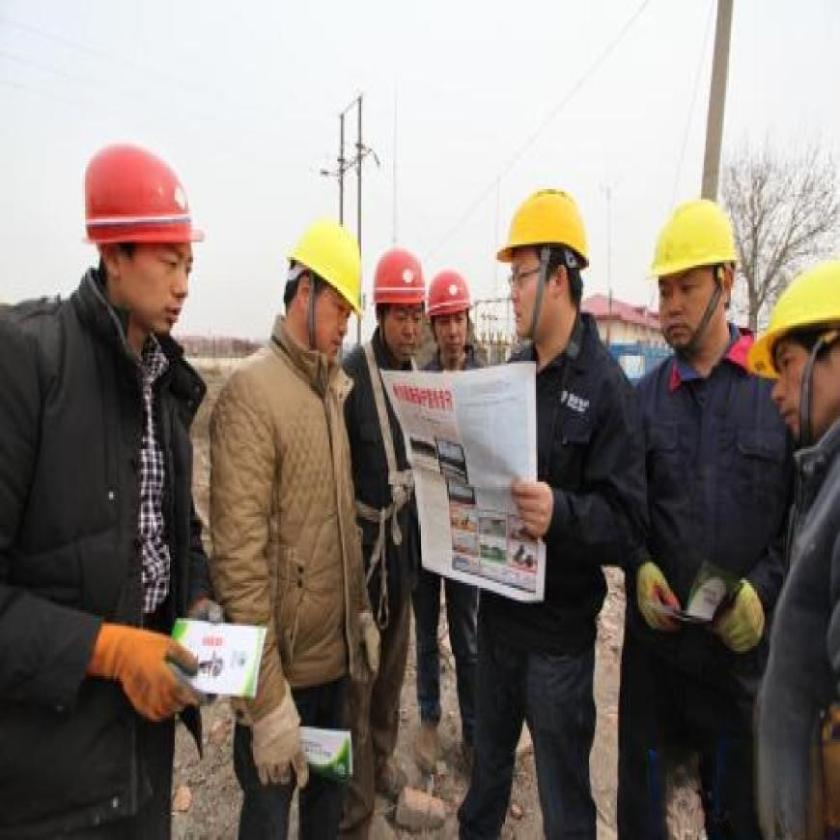Con_casco: (70, 137, 209, 342), (748, 262, 840, 450), (502, 189, 591, 368), (644, 202, 738, 371), (281, 220, 370, 380), (370, 247, 431, 375), (430, 268, 475, 374)
